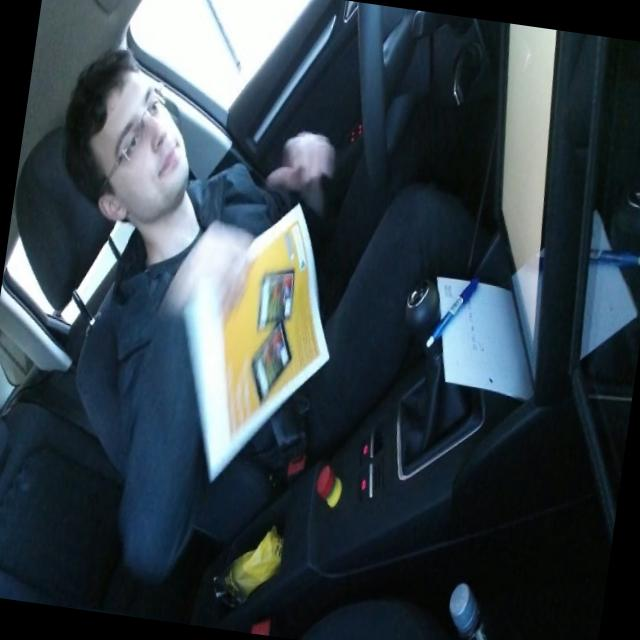pen: (424, 269, 480, 354)
